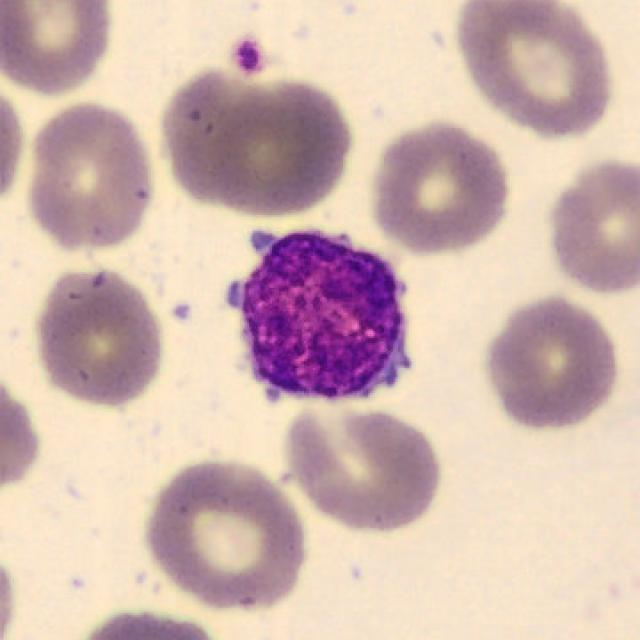Linfocito: (233, 231, 411, 402)
